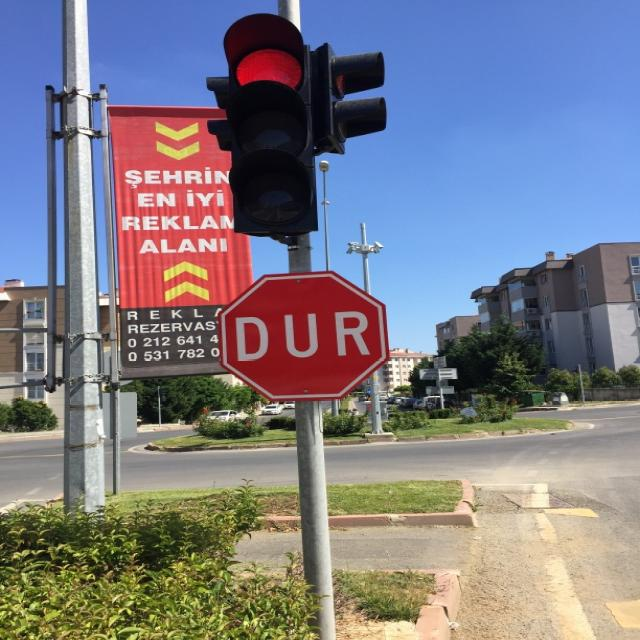dur: (220, 271, 390, 400)
kirmizi: (225, 14, 317, 235)
